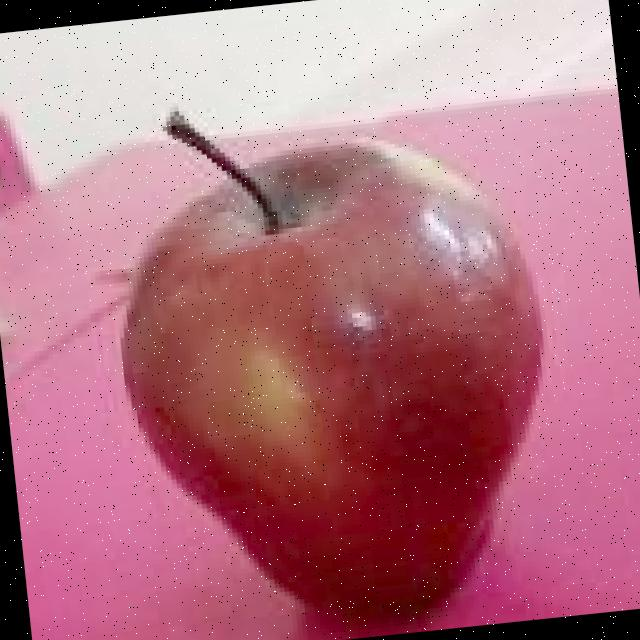Good_Apple 10-21 days: (124, 117, 539, 621)
